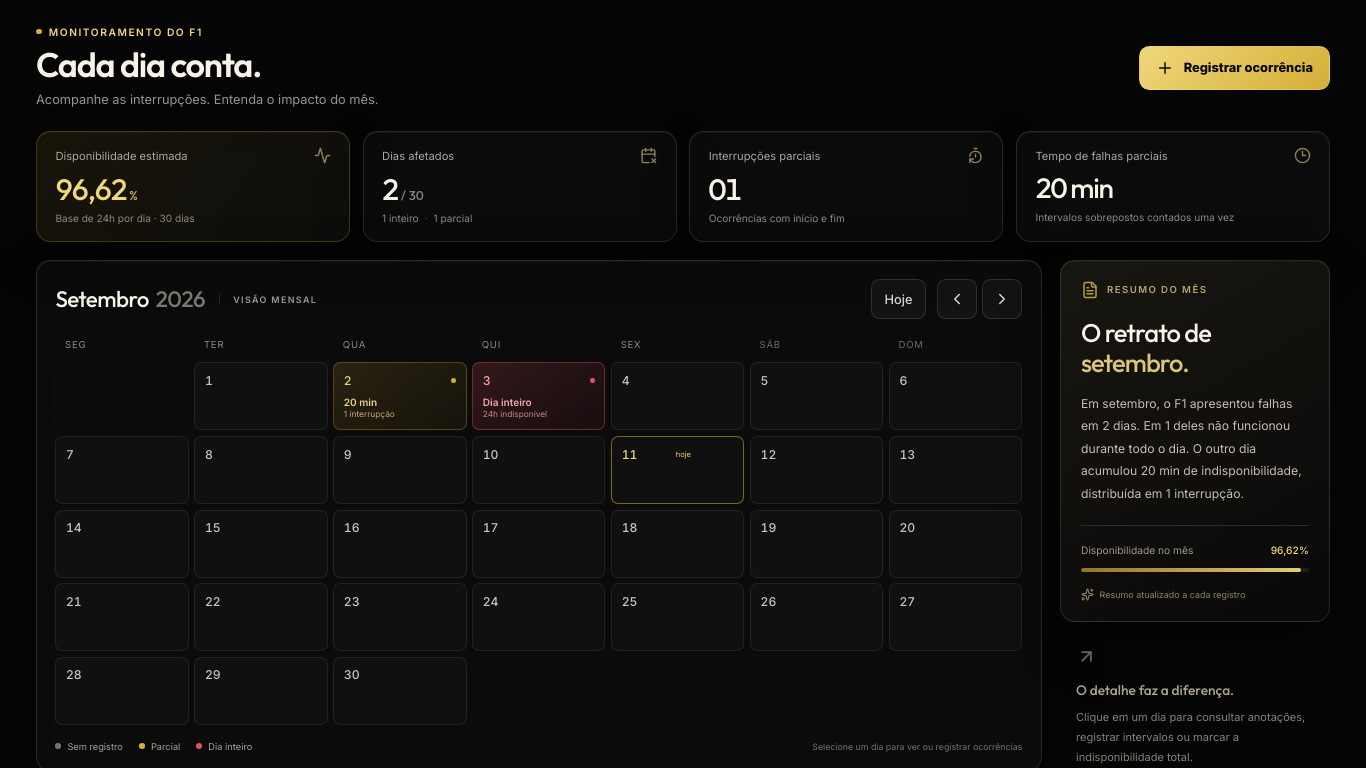
CalendarWorkspace › remembers the operational day for registration without leaving a pressed selection marker
Click the button named "2 de setembro, 1 interrupção, 20 minutos" at (400, 396), box [333,362,466,430]
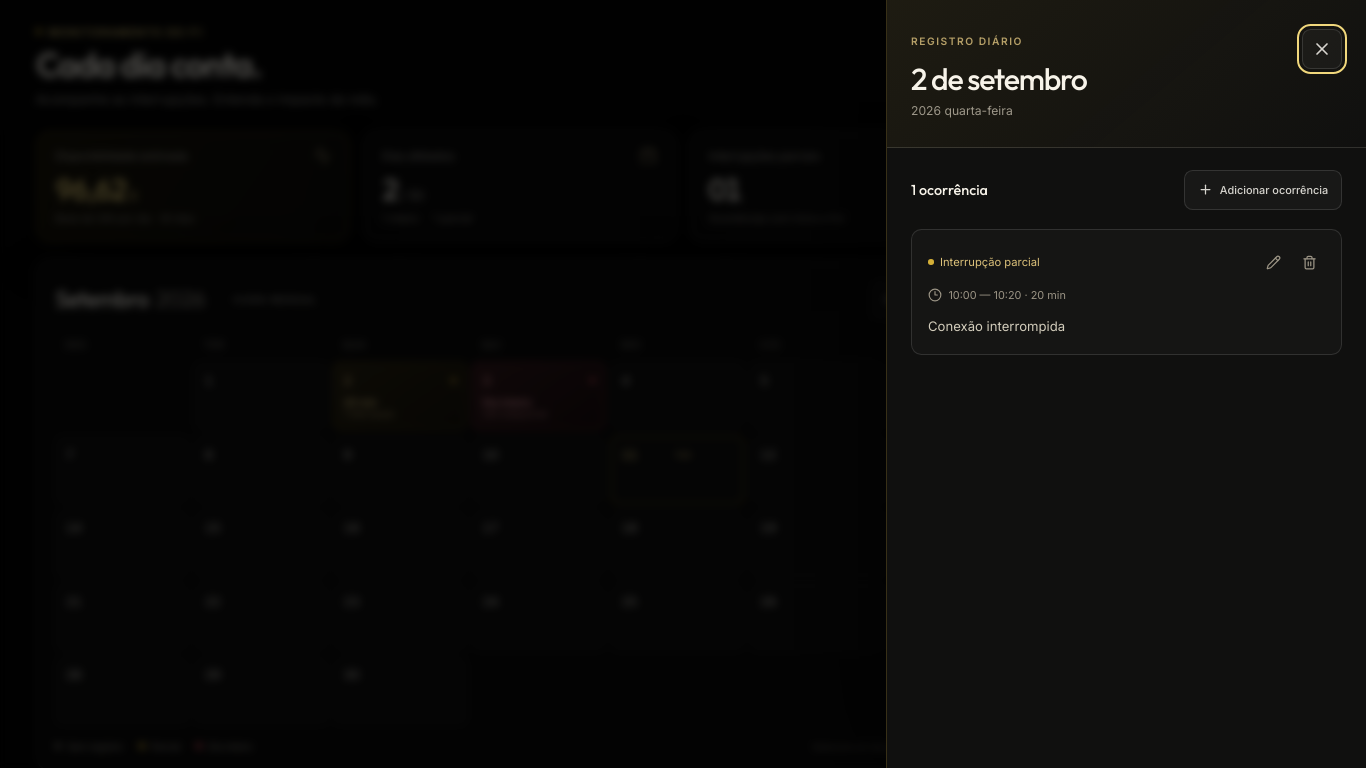
Click the button named "Fechar painel do dia" at (1322, 49), box [1302,29,1342,69]
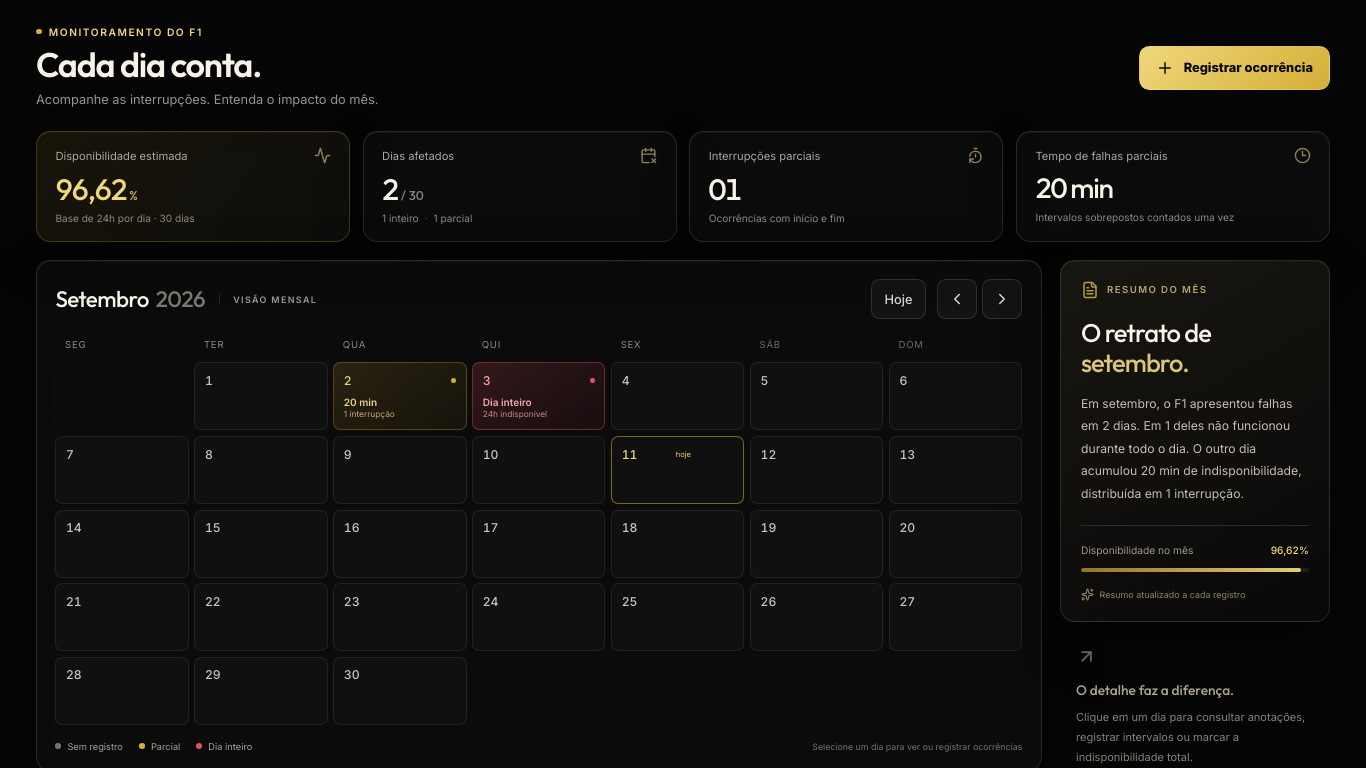
Click the button "Registrar ocorrência" at (1234, 68), box [1139,46,1330,90]
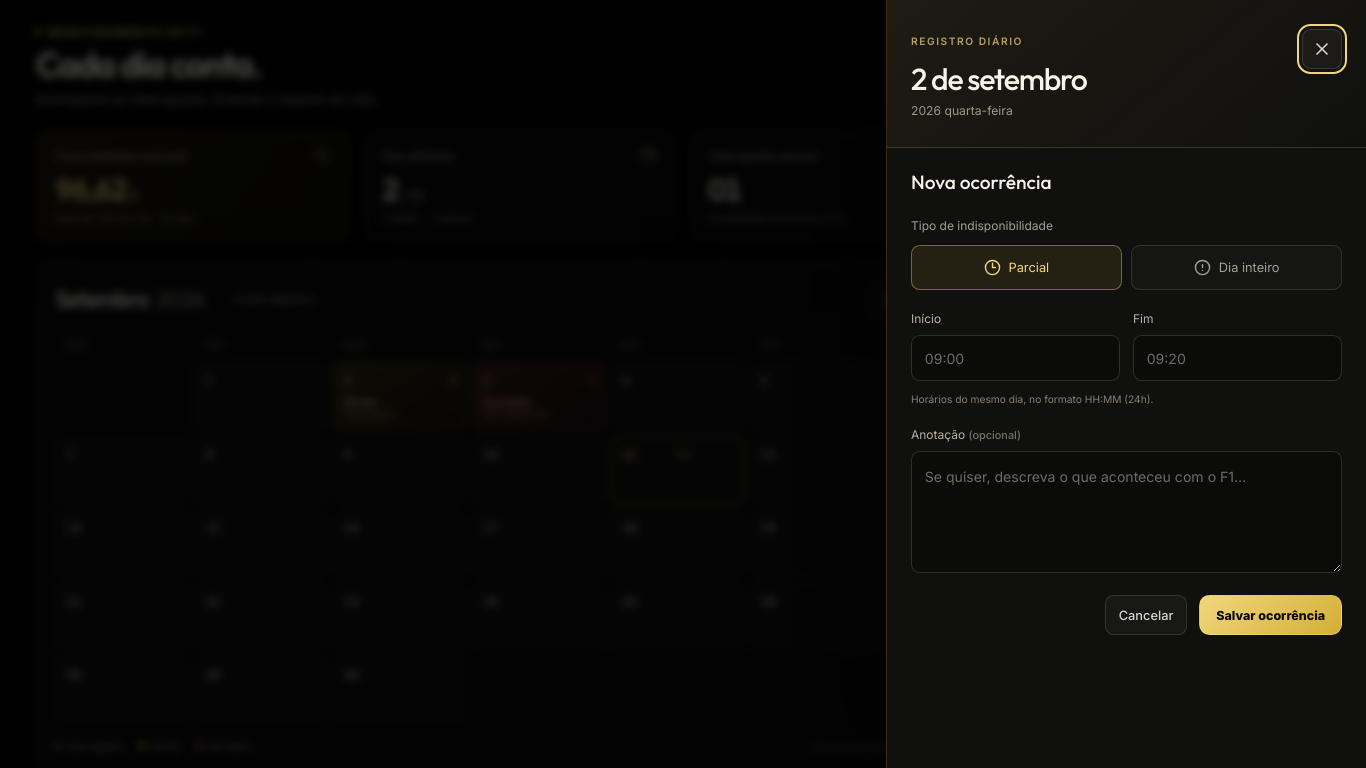
Now the dialog "2 de setembro" is shown, box [886,0,1365,767]
Now the text box labelled "Anotação" is shown, box [911,451,1342,573]
